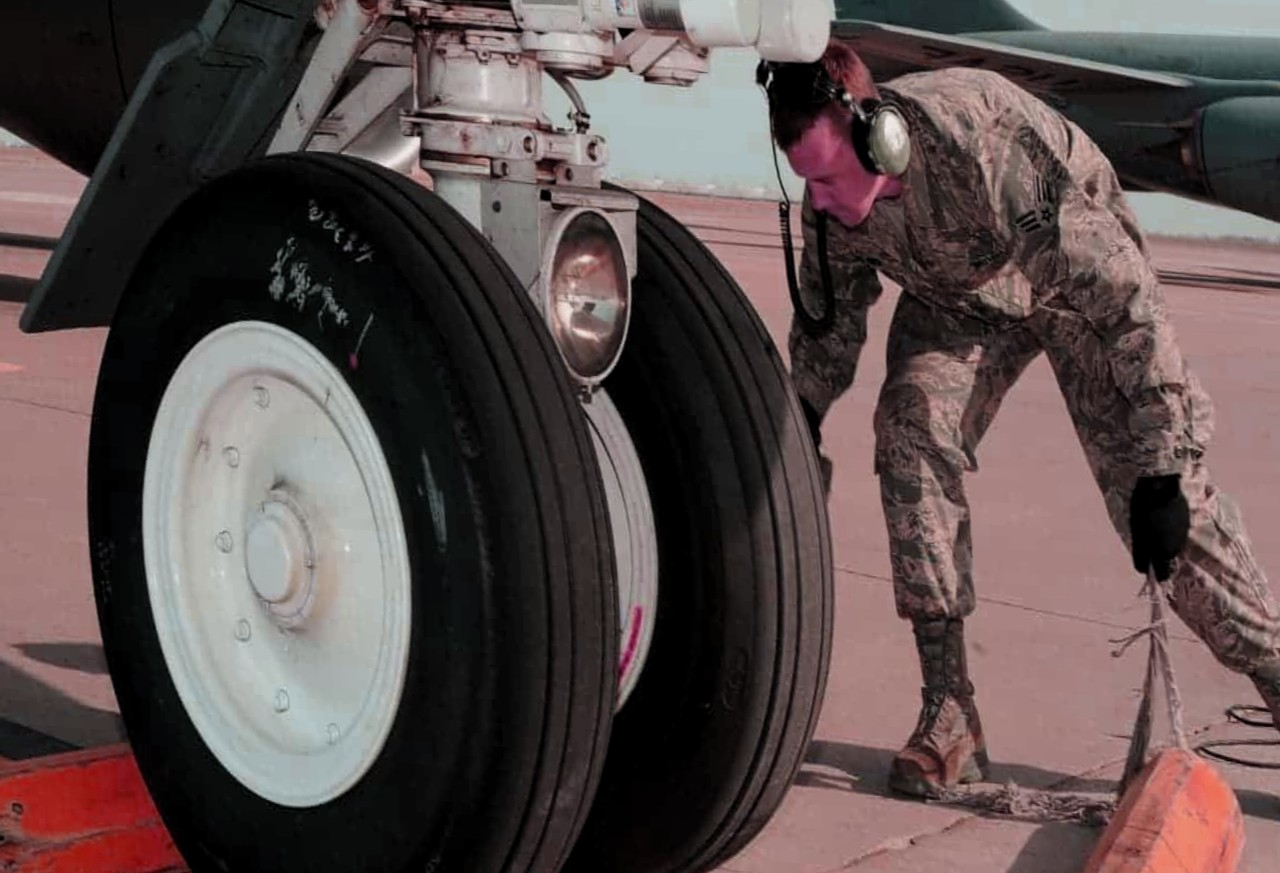chock: (954, 722, 1280, 873)
wheel: (88, 140, 642, 873), (507, 175, 856, 873)
